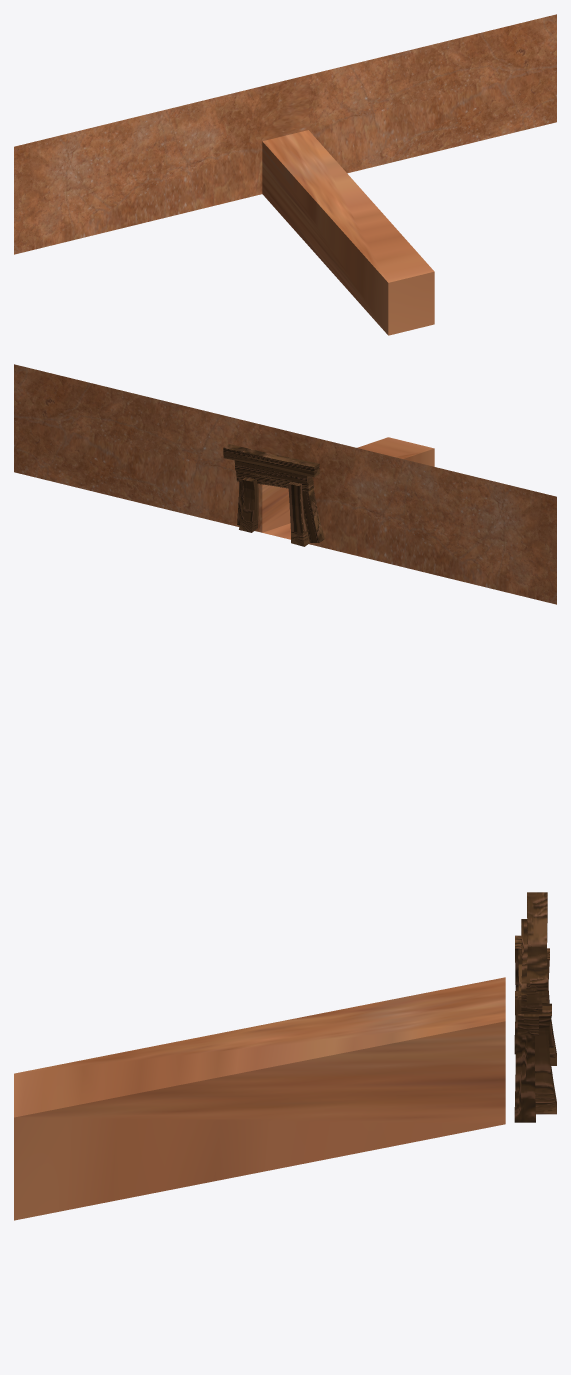
File: r_mineshaft.fbx
3 renders of one model, top to bottom at view 1: azimuth 30°, elevation 25°; view 2: azimuth 150°, elevation 25°; view 3: azimuth 270°, elevation 25°, orthographic. The views are drawn at different scales.
Parts seen in each view (by area): view 1: mine entrance; view 2: mine entrance, Cube, Cube.005, Cube.004, Cube.002, Cube.001; view 3: mine entrance, Cube.005, Cube, Cube.003.
Boxes of the visible parts, x1,y1,x2,y2 form: mine entrance: (14,14,556,335); mine entrance: (14,364,556,604); Cube: (239,477,309,546); Cube.005: (223,444,319,477); Cube.004: (302,488,324,542); Cube.002: (234,460,312,483); Cube.001: (236,470,313,491); mine entrance: (14,977,505,1220); Cube.005: (526,892,547,1002); Cube: (535,948,556,1114); Cube.003: (514,991,535,1122).
Bounding box in the file's own units: 3854 × 1067 × 1711.
1 material, 1 textured.
